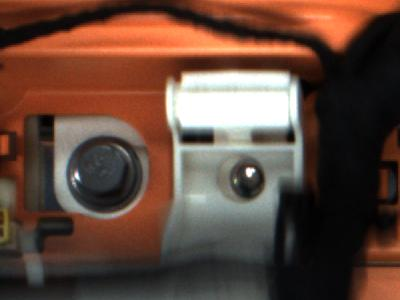nut_b: (66, 139, 146, 210)
